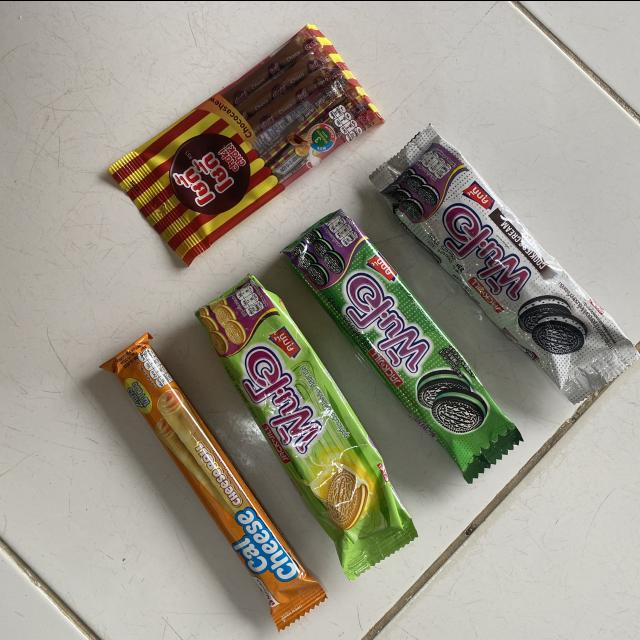plastik: (370, 125, 638, 403), (196, 275, 417, 578), (101, 332, 326, 629), (109, 24, 383, 264), (283, 209, 523, 482)
